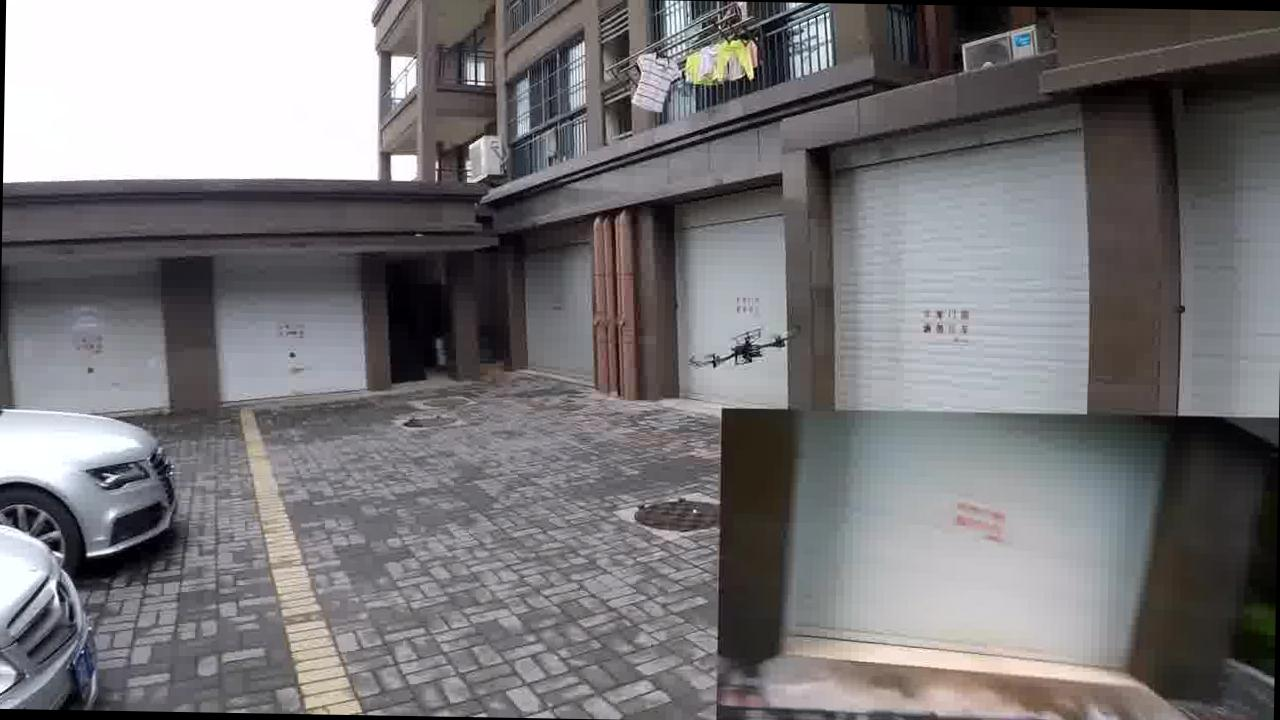drone: (683, 314, 797, 376)
